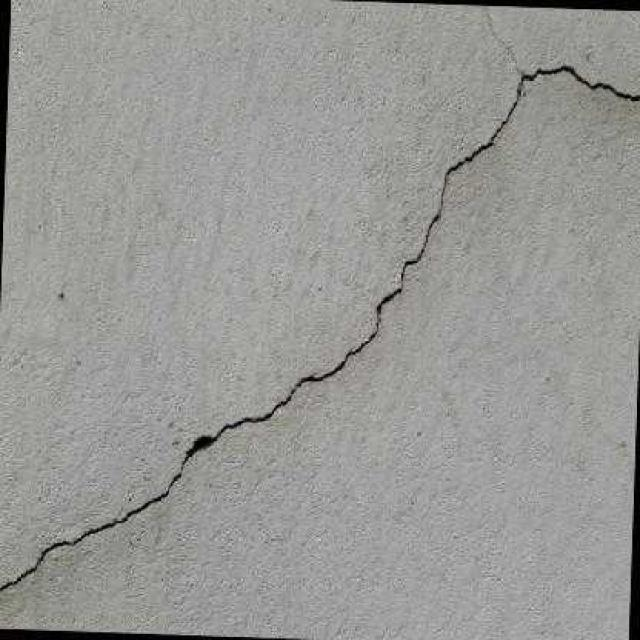D00: (0, 65, 640, 592)
